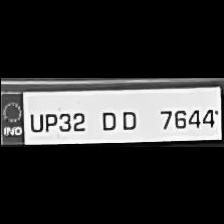2: (70, 109, 86, 133)
3: (56, 108, 72, 132)
4: (188, 103, 202, 130), (204, 102, 216, 132)
6: (174, 103, 188, 130)
7: (154, 103, 174, 129)
D: (116, 106, 140, 130), (96, 106, 119, 130)
P: (46, 108, 60, 132)
U: (26, 108, 44, 132)
